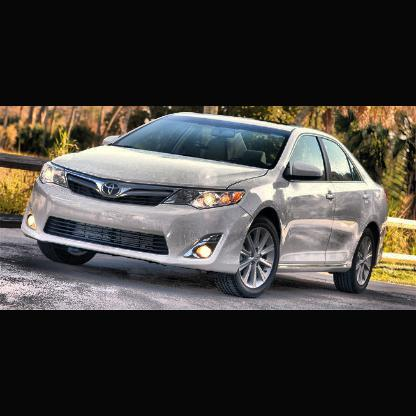Toyota Camry Sedan 2012: (21, 111, 394, 297)
